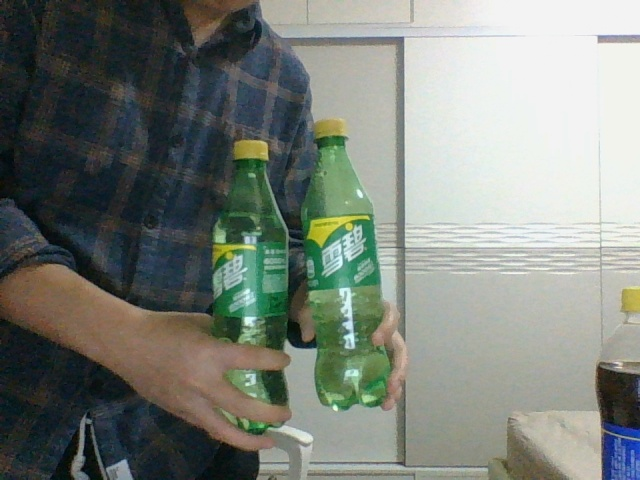Cola: (595, 284, 640, 474)
Sprite: (301, 117, 393, 408), (211, 140, 289, 432)
